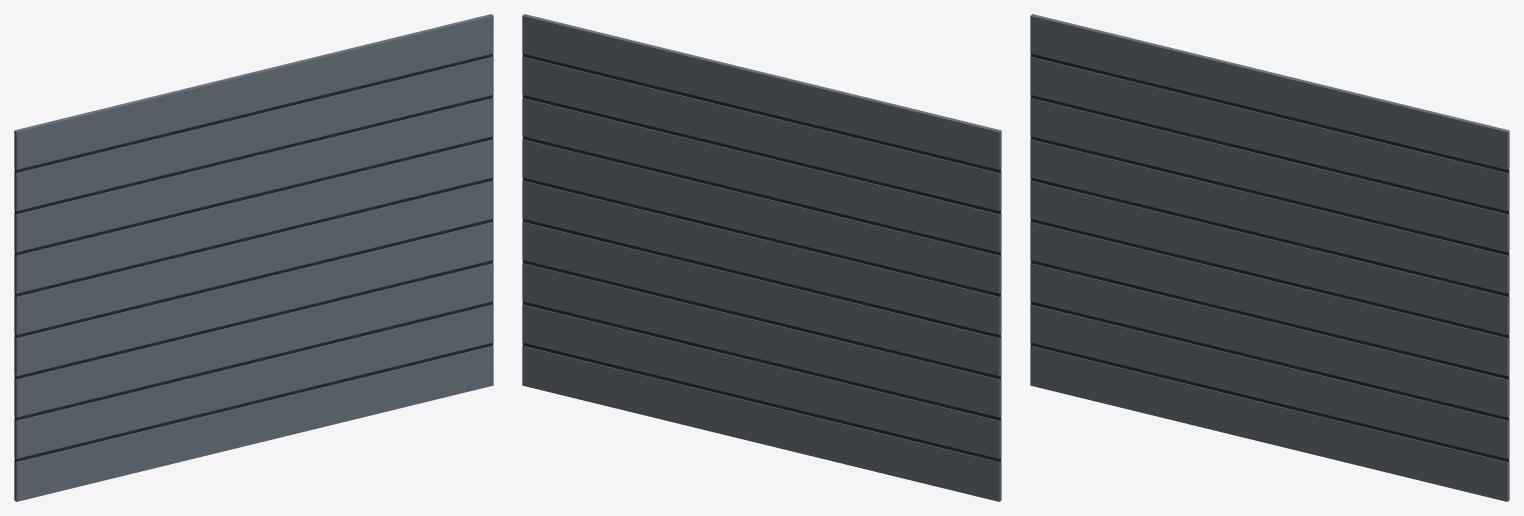
The model's file is SM_Buildings_Gas_Station_Gate_01.fbx.
The picture shows the model from 3 angles, left to right: view 1: azimuth 30°, elevation 25°; view 2: azimuth 150°, elevation 25°; view 3: azimuth 330°, elevation 25°; orthographic projection.
Visible parts, largest first — view 1: SM_Buildings_Gas_Station_Gate1; view 2: SM_Buildings_Gas_Station_Gate1; view 3: SM_Buildings_Gas_Station_Gate1.
Boxes of the visible parts, x1,y1,x2,y2 form: SM_Buildings_Gas_Station_Gate1: [14, 14, 493, 501]; SM_Buildings_Gas_Station_Gate1: [522, 14, 1001, 501]; SM_Buildings_Gas_Station_Gate1: [1030, 14, 1509, 501].
Size of the model in its own units: 4.14 by 3.07 by 0.0368.
